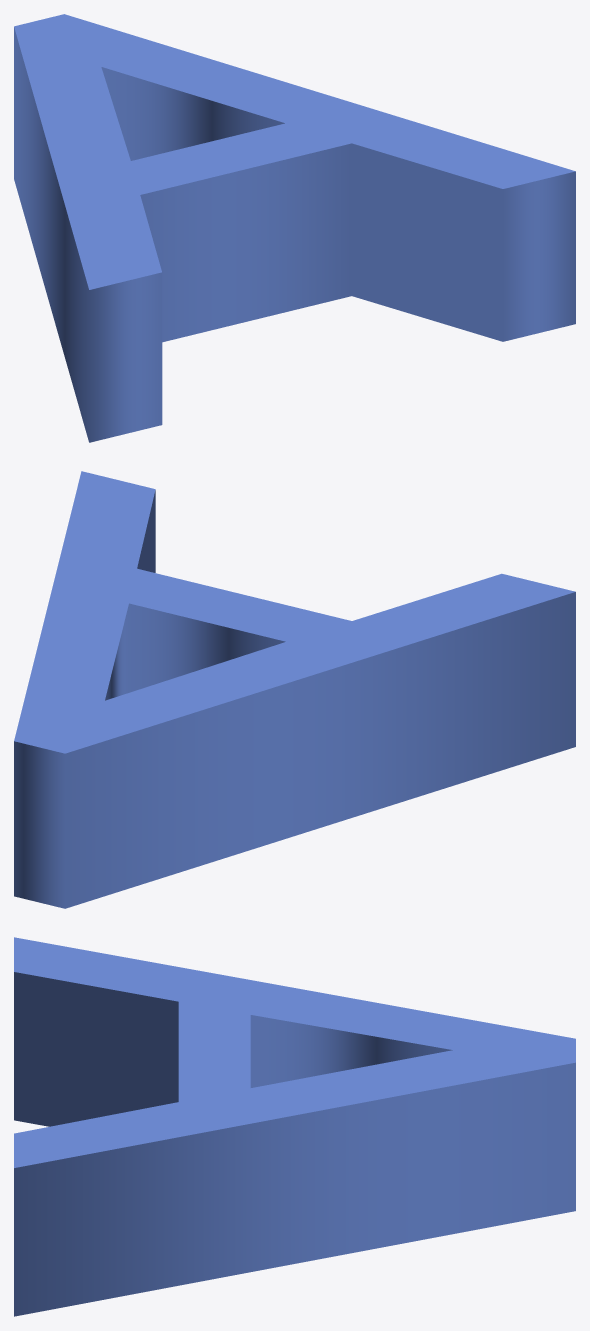
Rendered from Text-practice.glb.
3 views of the same model, one above another, from view 1: azimuth 30°, elevation 25°; view 2: azimuth 150°, elevation 25°; view 3: azimuth 270°, elevation 25° (orthographic). The views are drawn at different scales.
Visible parts, largest first — view 1: テキスト; view 2: テキスト; view 3: テキスト.
Boxes of the visible parts, bbox=[...] form: テキスト: bbox=[14, 14, 575, 442]; テキスト: bbox=[14, 471, 575, 908]; テキスト: bbox=[14, 937, 575, 1316].
Size of the model in its own units: 0.667 by 0.2 by 0.686.
